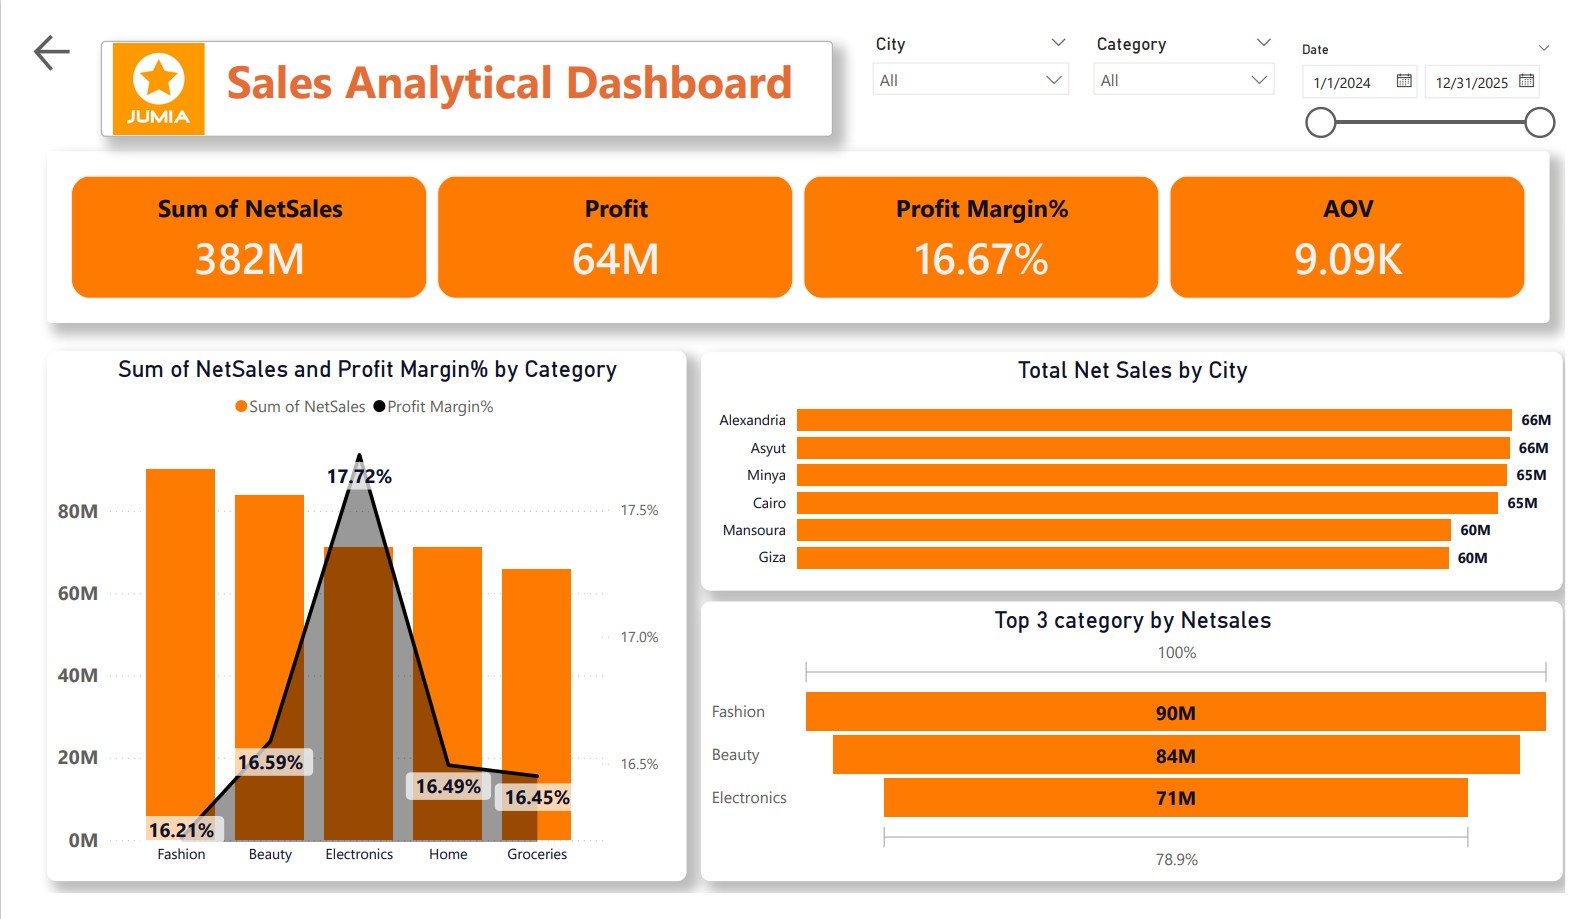

The page's visual inventory and layout, read from the dashboard file:
{"tool":"powerbi","page":{"name":"Sales","canvas":[1280,720],"ordinal":1},"visuals":[{"type":"actionButton","box":[0,0,61.7,40],"z":0},{"type":"slicer","fields":{"Values":["Dim_Date.Date"]},"box":[1048,6,232,88],"z":1000},{"type":"slicer","fields":{"Values":["Fact_Orders.City"]},"box":[693.3,0,183.3,58.3],"z":2000},{"type":"slicer","fields":{"Values":["Fact_Orders.Category"]},"box":[876.7,0,171.7,88.3],"z":3000},{"type":"cardVisual","fields":{"Data":["Sum(Fact_Orders.NetSales)","Fact_Orders.Profit","Fact_Orders.Profit Margin%","Fact_Orders.AOV"]},"box":[15,101.7,1251.7,143.3],"z":4000},{"type":"lineClusteredColumnComboChart","fields":{"Y":["Sum(Fact_Orders.NetSales)"],"Category":["Fact_Orders.Category"],"Y2":["Fact_Orders.Profit Margin%"]},"box":[15,268.3,533.3,441.7],"z":5000},{"type":"barChart","fields":{"Category":["Fact_Orders.City"],"Y":["Fact_Orders.Total Net Sales"]},"box":[559.7,268.8,718.2,198.7],"z":6000},{"type":"funnel","title":"Top 3 category by Netsales","fields":{"Category":["Fact_Orders.Category"],"Y":["Sum(Fact_Orders.NetSales)"]},"box":[560,476.7,718.3,233.3],"z":7000},{"type":"group","id":"g1","title":"Group 1","box":[60,10,610,80],"z":8000},{"type":"textbox","box":[60,10,610,80],"z":14000,"group":"g1"},{"type":"image","box":[60,10,95.7,80],"z":14500,"group":"g1"}]}

Visuals, with their boxes in screenshot pixels (x1, y1, x2, y2), scaled from the page's 1280x720 canvas onto the 1588x919 screenshot:
actionButton: crop(0, 0, 77, 51)
slicer - Dim_Date.Date: crop(1300, 8, 1587, 120)
slicer - Fact_Orders.City: crop(860, 0, 1088, 74)
slicer - Fact_Orders.Category: crop(1088, 0, 1301, 113)
cardVisual - Sum(Fact_Orders.NetSales) x Fact_Orders.Profit: crop(19, 130, 1571, 313)
lineClusteredColumnComboChart - Sum(Fact_Orders.NetSales) x Fact_Orders.Category: crop(19, 342, 680, 906)
barChart - Fact_Orders.City x Fact_Orders.Total Net Sales: crop(694, 343, 1585, 597)
"Top 3 category by Netsales" funnel: crop(695, 608, 1586, 906)
"Group 1" group: crop(74, 13, 831, 115)
textbox: crop(74, 13, 831, 115)
image: crop(74, 13, 193, 115)
